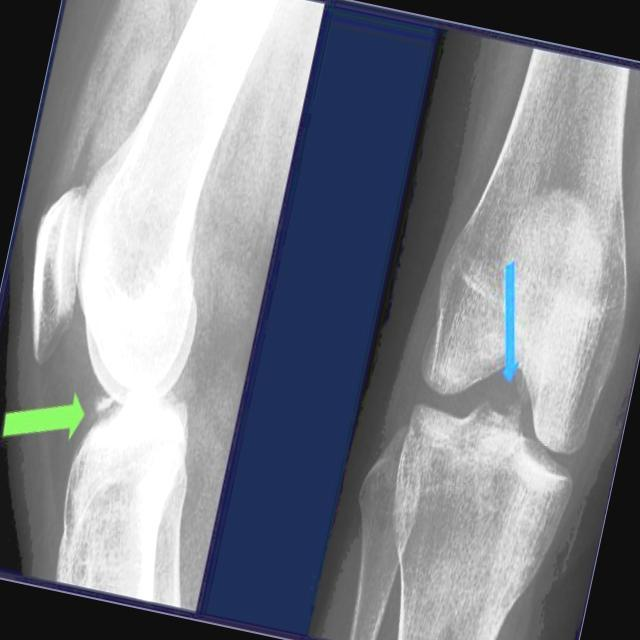Avlusion Fracture: (479, 376, 536, 436), (82, 381, 126, 424)
